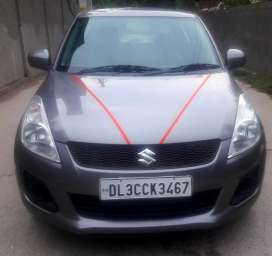license_plate: (99, 177, 194, 199)
